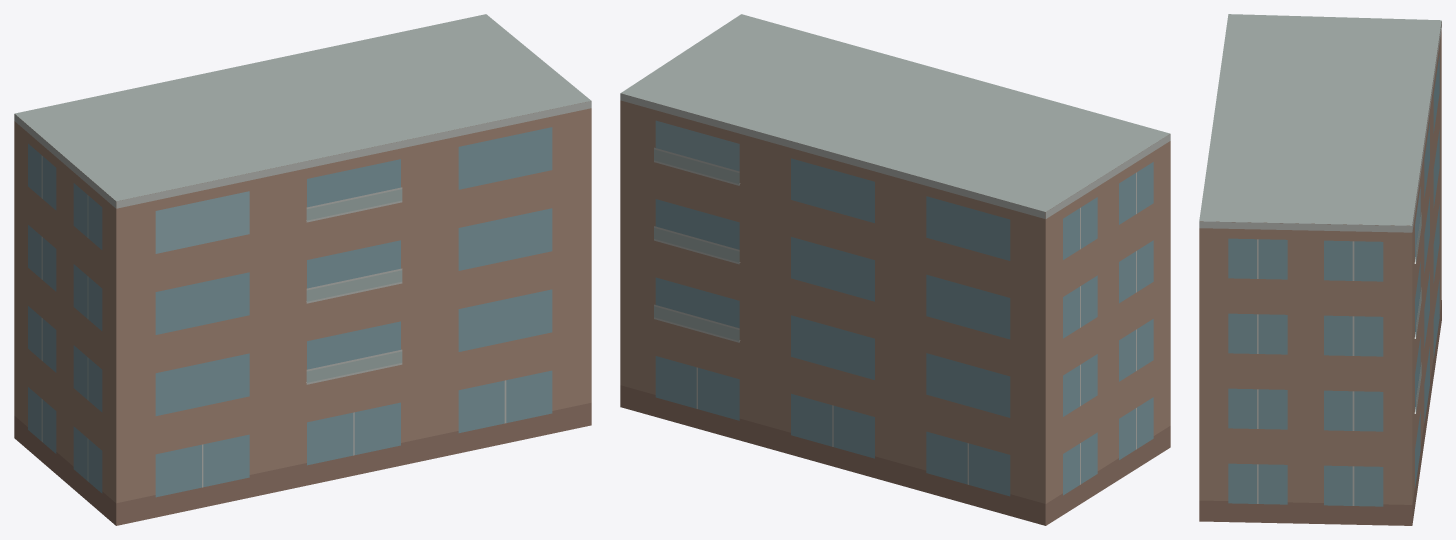
File: survey-upis-32885177.glb
The picture shows the model from 3 angles, left to right: view 1: azimuth 30°, elevation 25°; view 2: azimuth 150°, elevation 25°; view 3: azimuth 270°, elevation 25°; orthographic projection. The views are drawn at different scales.
Visible parts, largest first — view 1: survey-upis-32885177.tmp; view 2: survey-upis-32885177.tmp; view 3: survey-upis-32885177.tmp.
Part boxes in pixels (x1,y1,x2,y2): survey-upis-32885177.tmp: (14,14,591,525); survey-upis-32885177.tmp: (620,14,1170,525); survey-upis-32885177.tmp: (1199,14,1441,525).
Size of the model in its own units: 16.21 by 10.7 by 7.85.
